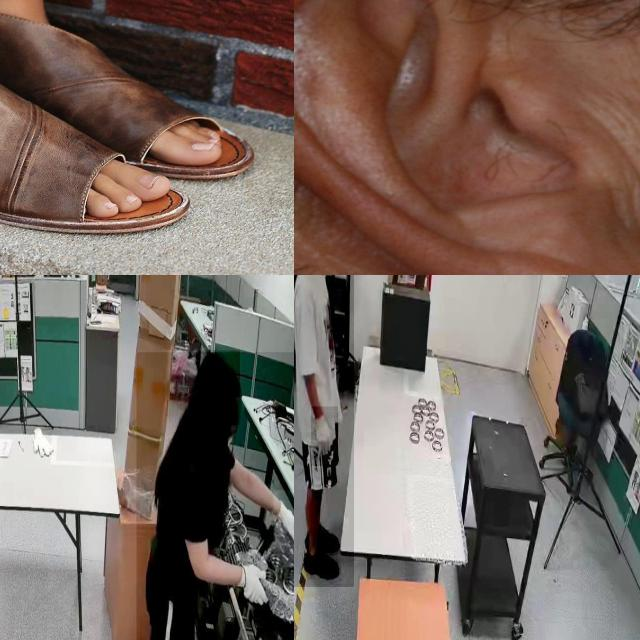No_Ear-Protection: (294, 0, 640, 275)
Sandals: (0, 7, 193, 235)
hand_glove: (240, 546, 274, 614), (311, 406, 339, 467), (273, 489, 294, 567)
head_nohelmet: (196, 351, 240, 398)
person: (136, 352, 294, 640), (294, 275, 354, 587)
shoes: (300, 547, 342, 588), (301, 521, 345, 556)
